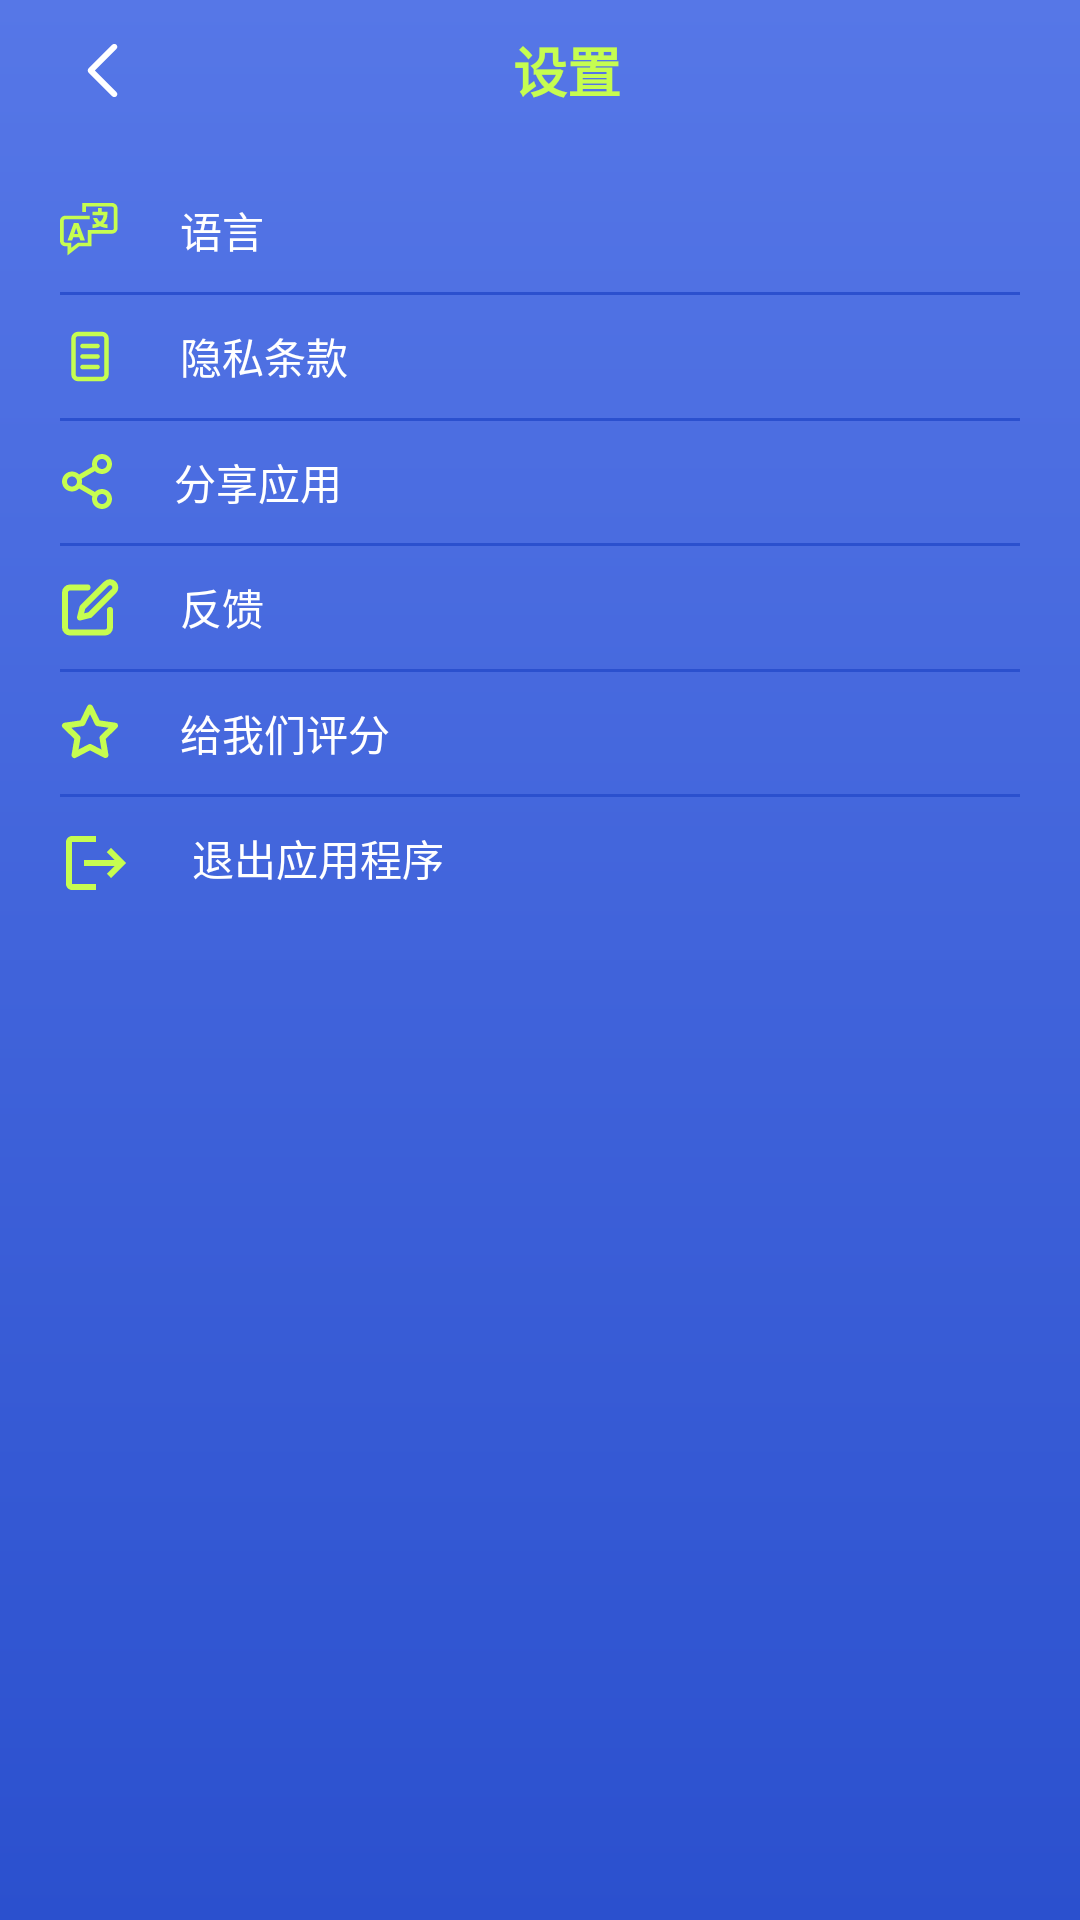

Icon bounding boxes for this 1080px x 1920px phone screenshot, format detection(x1, y1, x2, y2):
back: detection(87, 44, 118, 97)
